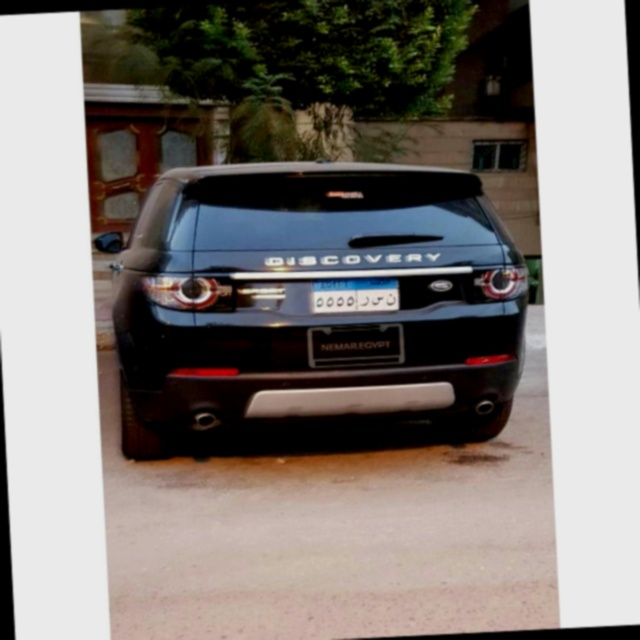License Plate: (308, 272, 404, 317)
